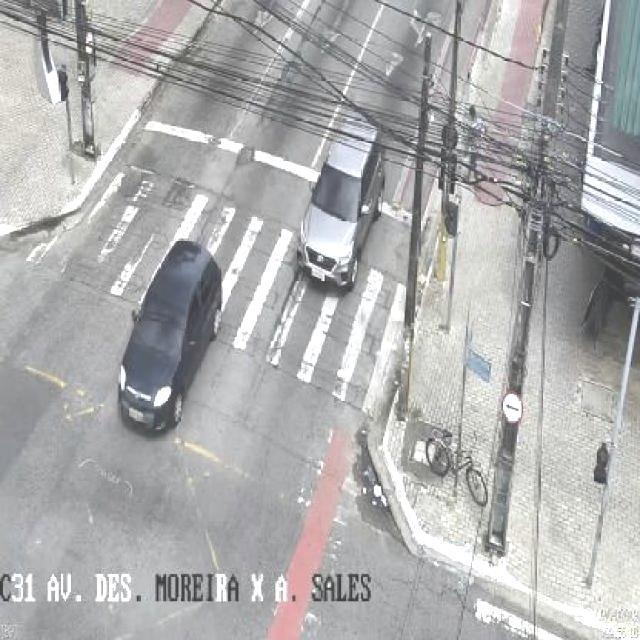Car: (119, 240, 224, 434), (298, 117, 383, 290)
Cycle: (426, 429, 498, 512)
